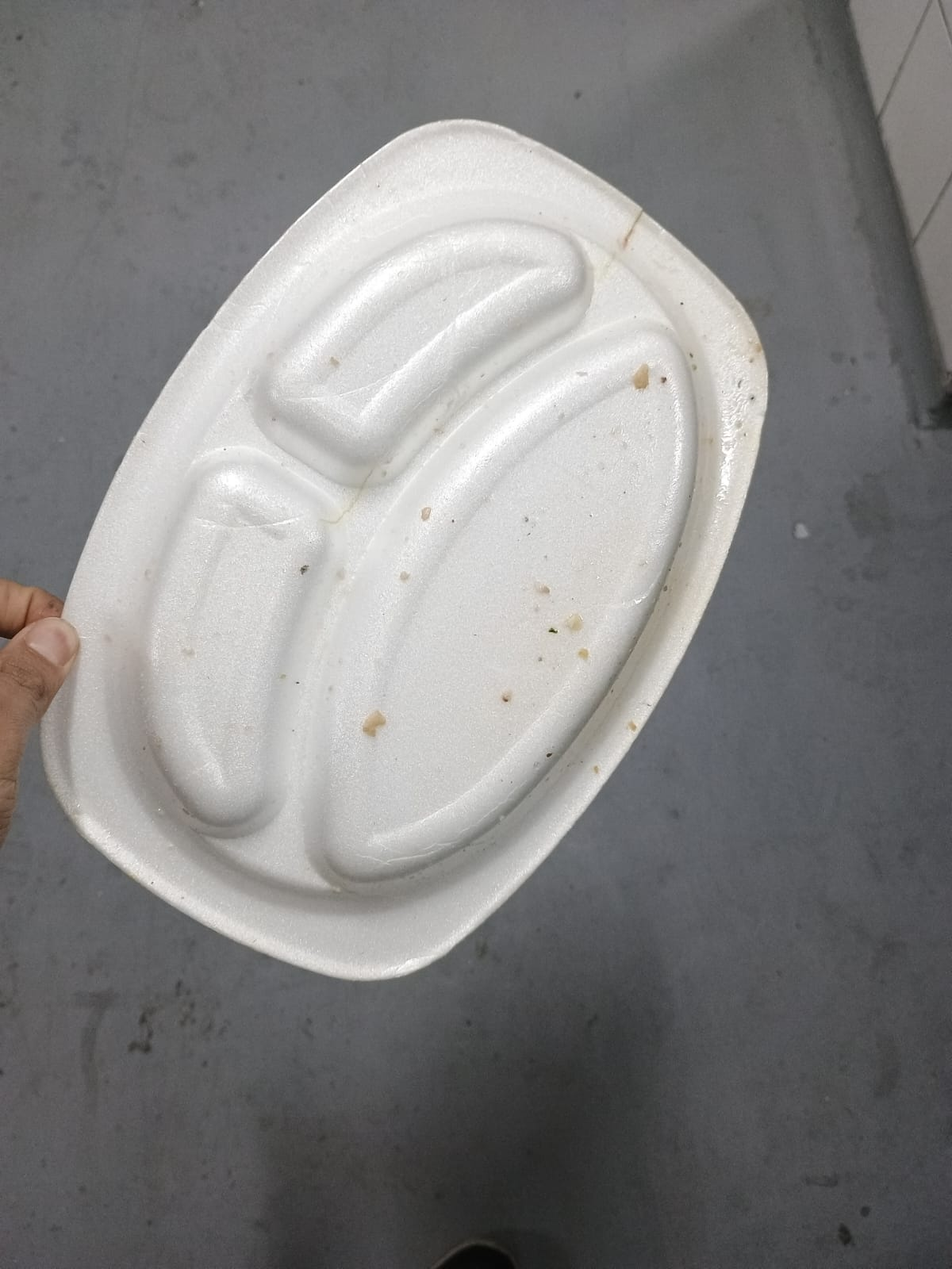Ordinario: (39, 115, 770, 984)
